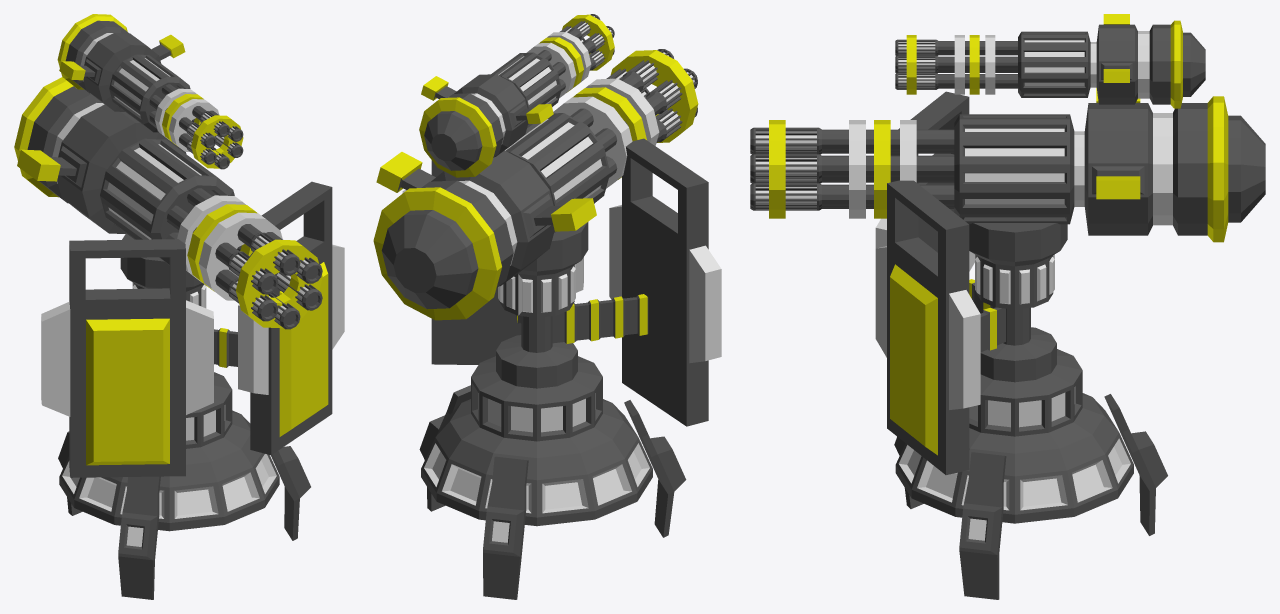
File: tower4_2.fbx
3 renders of one model, left to right at view 1: azimuth 30°, elevation 25°; view 2: azimuth 150°, elevation 25°; view 3: azimuth 270°, elevation 25°, orthographic. The views are drawn at different scales.
Parts seen in each view (by area): view 1: polySurface156; view 2: polySurface156; view 3: polySurface156.
Boxes of the visible parts, bbox=[...] form: polySurface156: bbox=[14, 14, 344, 599]; polySurface156: bbox=[373, 14, 721, 599]; polySurface156: bbox=[750, 14, 1265, 599].
Bounding box in the file's own units: 0.5373 × 0.8119 × 0.7314.
